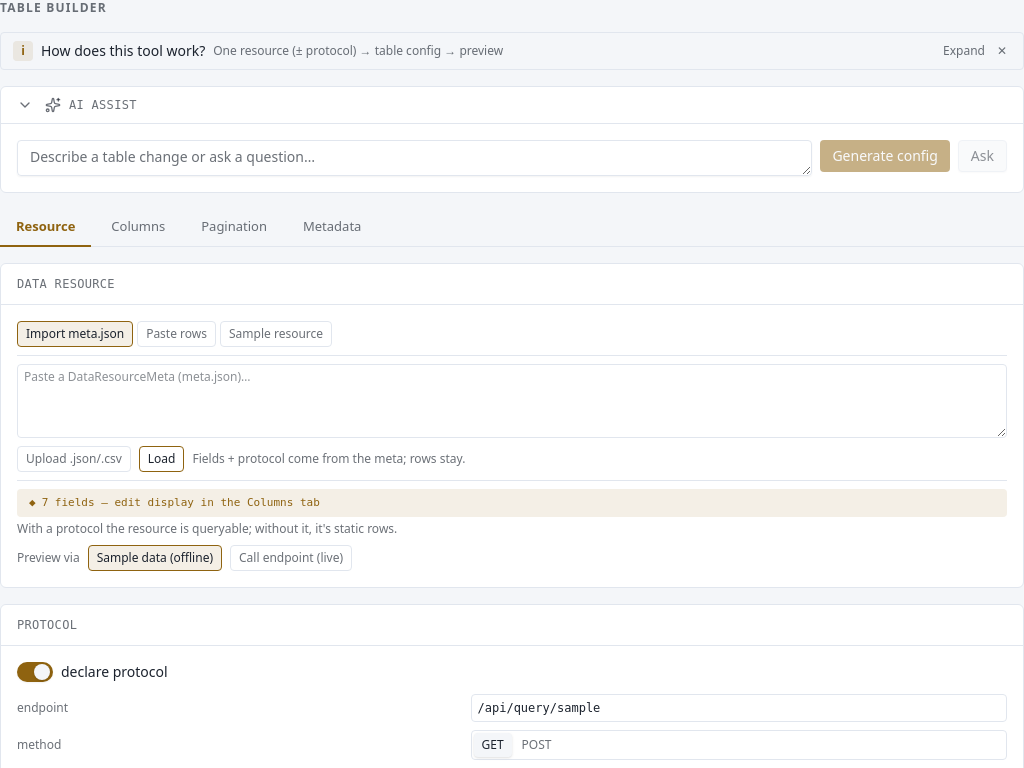
it: TableBuilderTool › editing page size in the pagination panel immediately changes the rendered row count
This screenshot has width=1024, height=768.
Click the button "Pagination". click: (234, 228)
box: [185,209,283,246]
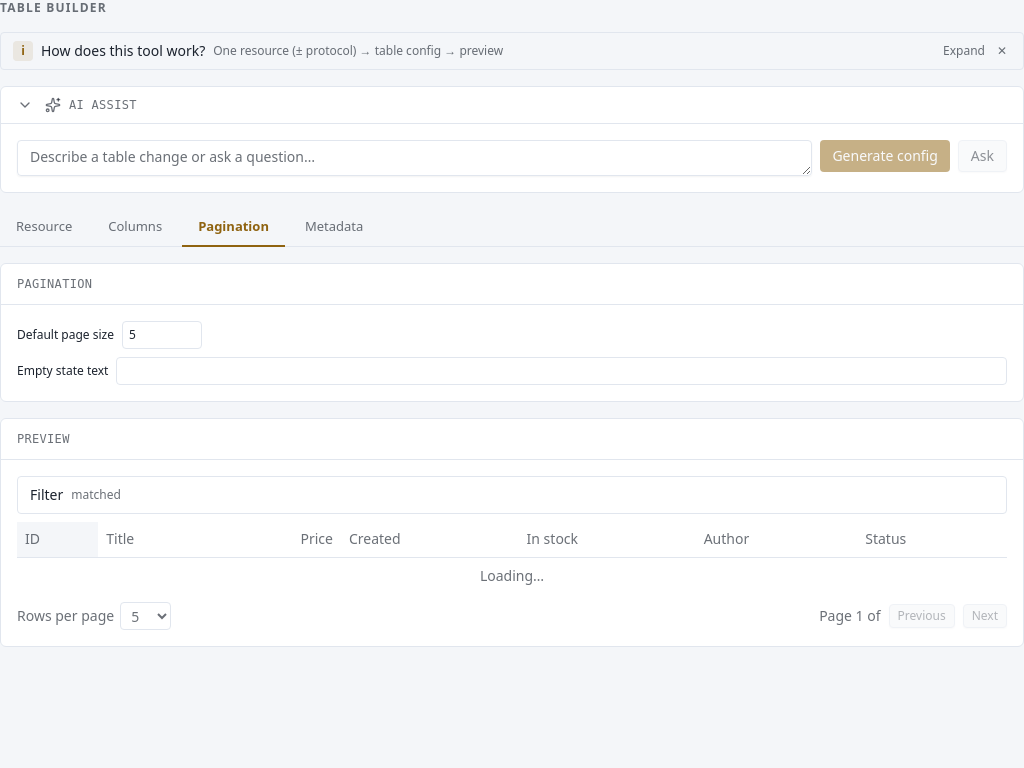
Replace the text in the number field labelled "Default page size" with "3". click: (162, 334)
box: [122,320,202,348]
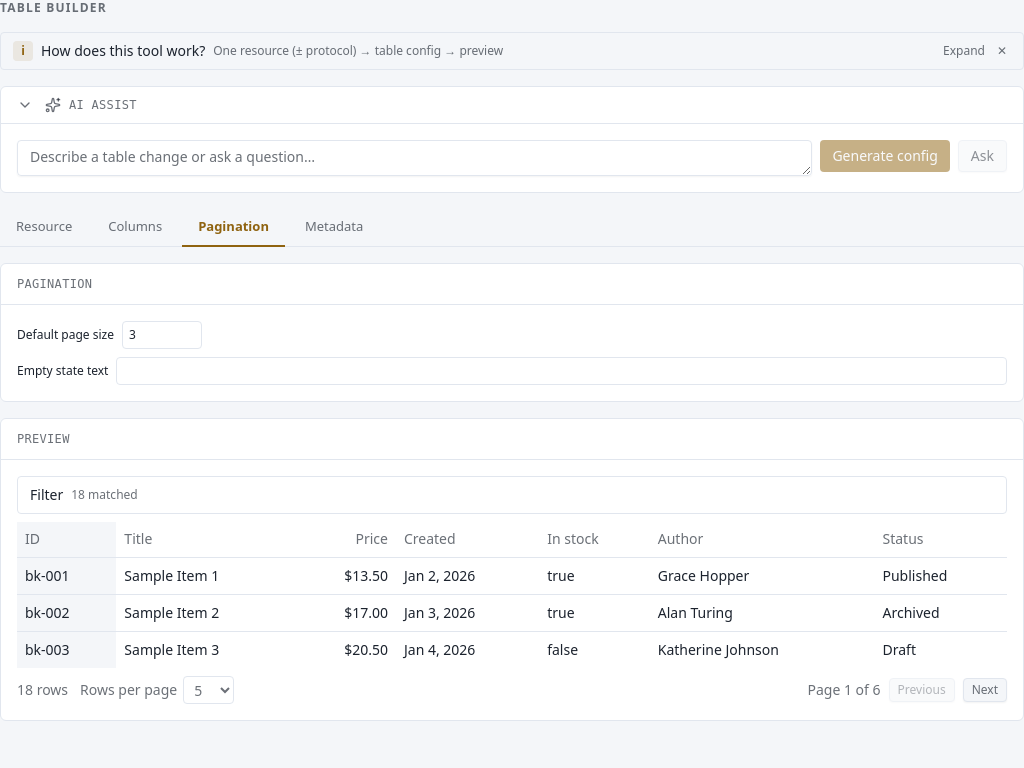
Result: the number of rows is 4 at [17,522,1007,558]; [17,558,1007,594]; [17,594,1007,632]; [17,632,1007,668]
